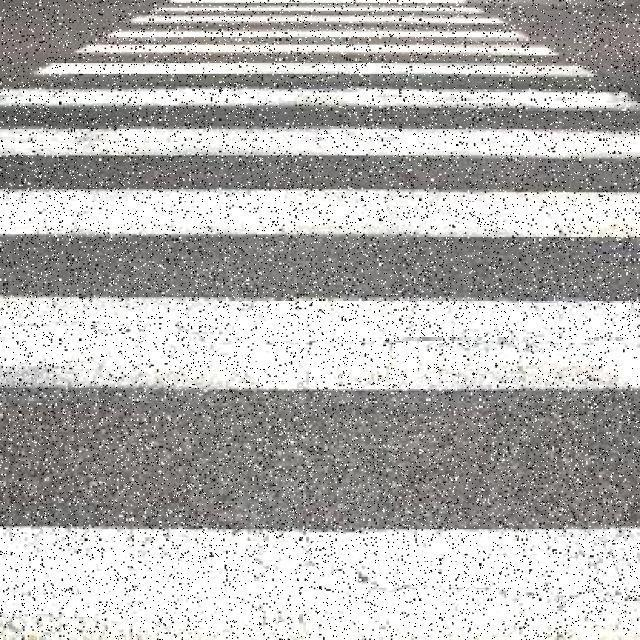Pedestrian crosswalk: (2, 0, 640, 638)
